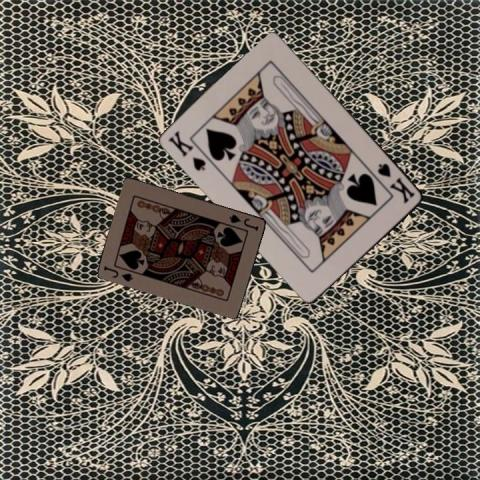Js: (226, 211, 260, 232), (100, 262, 134, 283)
Ks: (165, 127, 208, 173), (374, 160, 416, 205)
